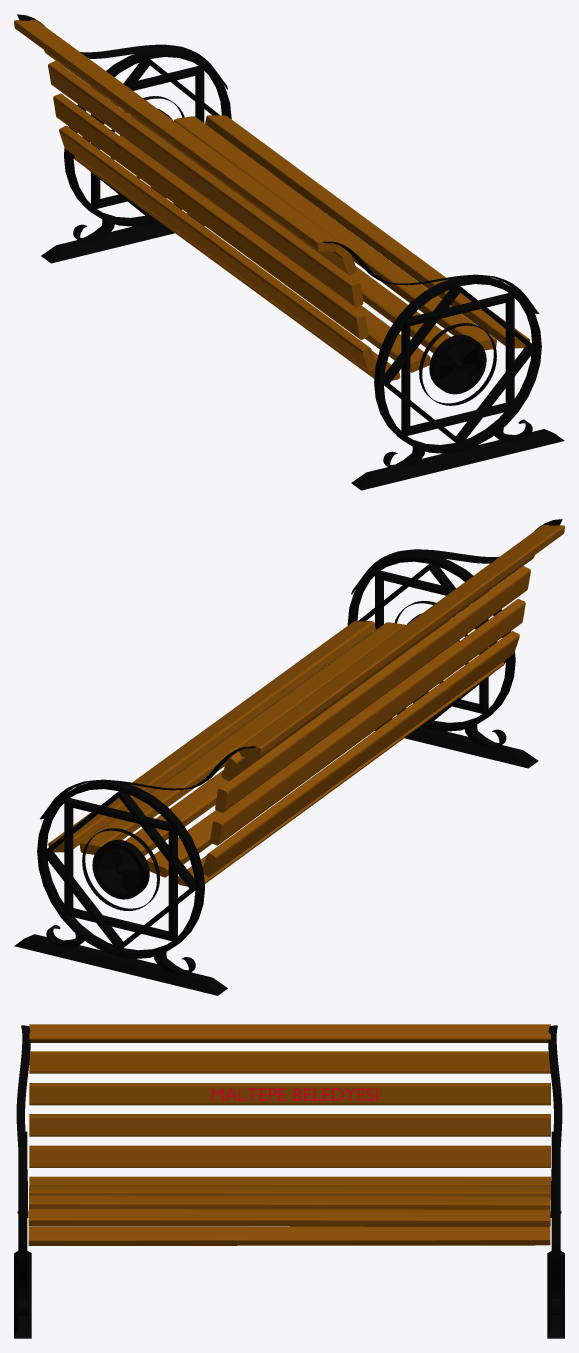
The model's file is Bank.fbx.
3 views of the same model, one above another, from view 1: azimuth 30°, elevation 25°; view 2: azimuth 150°, elevation 25°; view 3: azimuth 270°, elevation 25° (orthographic). The views are drawn at different scales.
Visible parts, largest first — view 1: Cube, Cylinder, Cube.004, Cube.001, Cube.002, Cylinder.002, Cylinder.001, Cone, Cube.003; view 2: Cube, Cylinder, Cube.004, Cube.001, Cube.002, Cylinder.002, Cylinder.001, Cone, Cube.003; view 3: Cube, Cylinder.002, Cube.004, Cylinder, Cube.005.
Part boxes in pixels (box(x1,y1,x2,y2)): Cube: box(14, 19, 530, 380); Cylinder: box(64, 51, 541, 453); Cube.004: box(41, 213, 564, 490); Cube.001: box(91, 66, 514, 435); Cube.002: box(73, 59, 536, 446); Cylinder.002: box(17, 14, 539, 313); Cylinder.001: box(120, 109, 486, 394); Cone: box(141, 123, 478, 386); Cube.003: box(110, 96, 496, 405); Cube: box(48, 525, 564, 886); Cylinder: box(37, 556, 515, 958); Cube.004: box(14, 718, 538, 995); Cube.001: box(64, 570, 488, 941); Cube.002: box(42, 564, 505, 951); Cylinder.002: box(40, 519, 562, 819); Cylinder.001: box(92, 613, 459, 899); Cone: box(100, 628, 437, 891); Cube.003: box(82, 600, 468, 910); Cube: box(28, 1024, 550, 1245); Cylinder.002: box(16, 1025, 562, 1217); Cube.004: box(14, 1251, 564, 1338); Cylinder: box(18, 1131, 560, 1292); Cube.005: box(211, 1088, 377, 1100).
Bounding box in the file's own units: 43.69 × 44.35 × 102.
